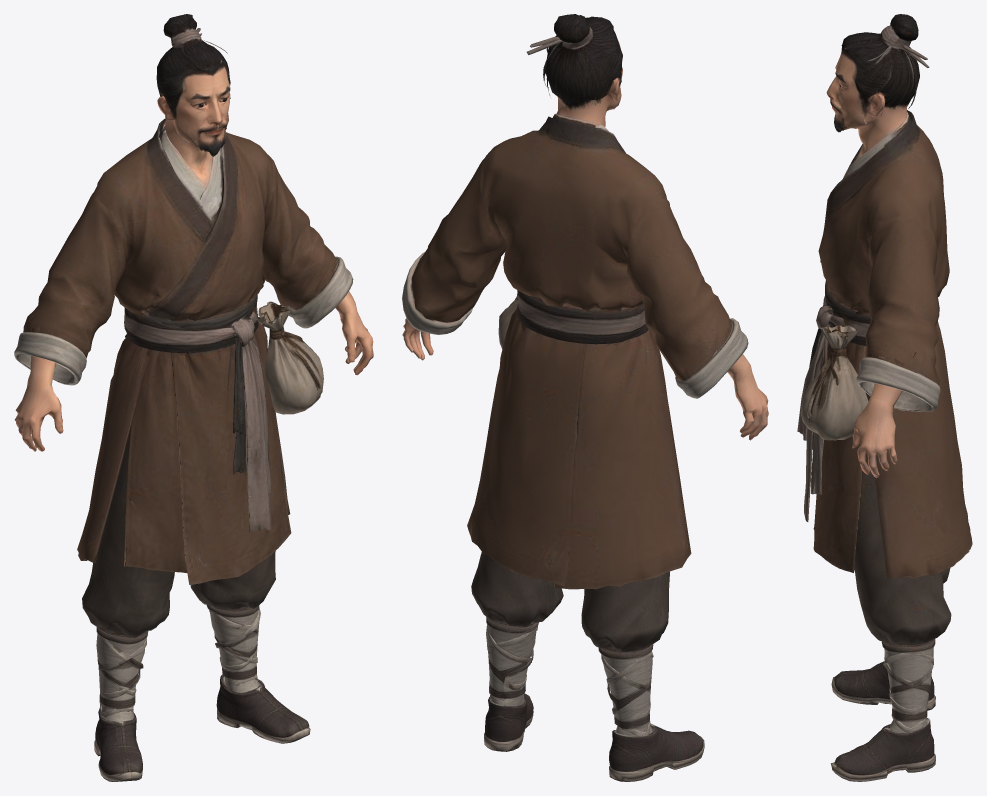
Rendered from merchant.glb.
3 renders of one model, left to right at view 1: azimuth 30°, elevation 25°; view 2: azimuth 150°, elevation 25°; view 3: azimuth 270°, elevation 25°, orthographic. The views are drawn at different scales.
Bounding box in the file's own units: 0.4819 × 0.9507 × 0.2104.
1 material, 1 textured.
